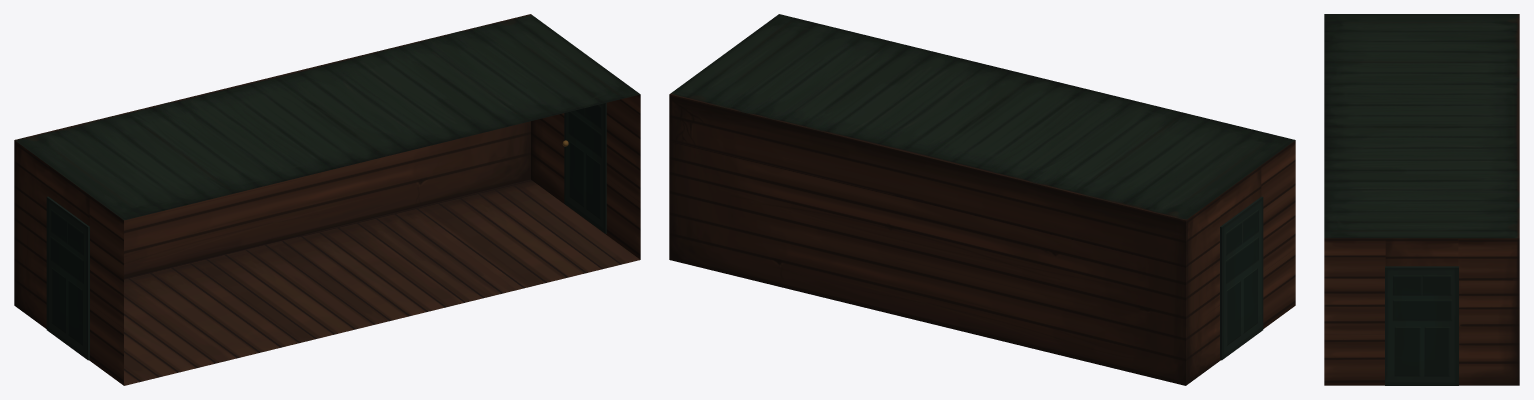
The model's file is Carriage_Fix.fbx.
The picture shows the model from 3 angles, left to right: view 1: azimuth 30°, elevation 25°; view 2: azimuth 150°, elevation 25°; view 3: azimuth 270°, elevation 25°; orthographic projection. The views are drawn at different scales.
Parts seen in each view (by area): view 1: carriageshell1, Door1 (×2); view 2: carriageshell1, Door1; view 3: carriageshell1, Door1.
Boxes of the visible parts, x1,y1,x2,y2 form: carriageshell1: (14,14,640,385); Door1 (×2): (46,103,606,360); carriageshell1: (669,14,1295,385); Door1: (1220,196,1263,360); carriageshell1: (1324,14,1519,385); Door1: (1385,266,1458,385).
Size of the model in its own units: 111 by 33.73 by 40.6.
